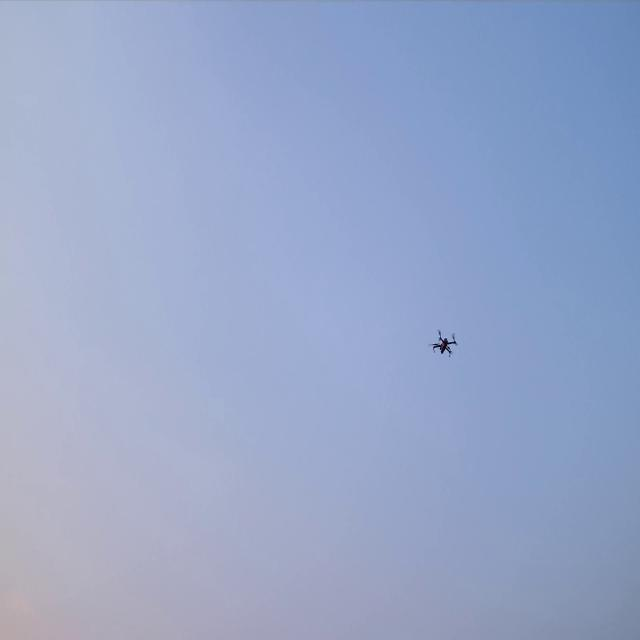UAV: (426, 327, 458, 359)
